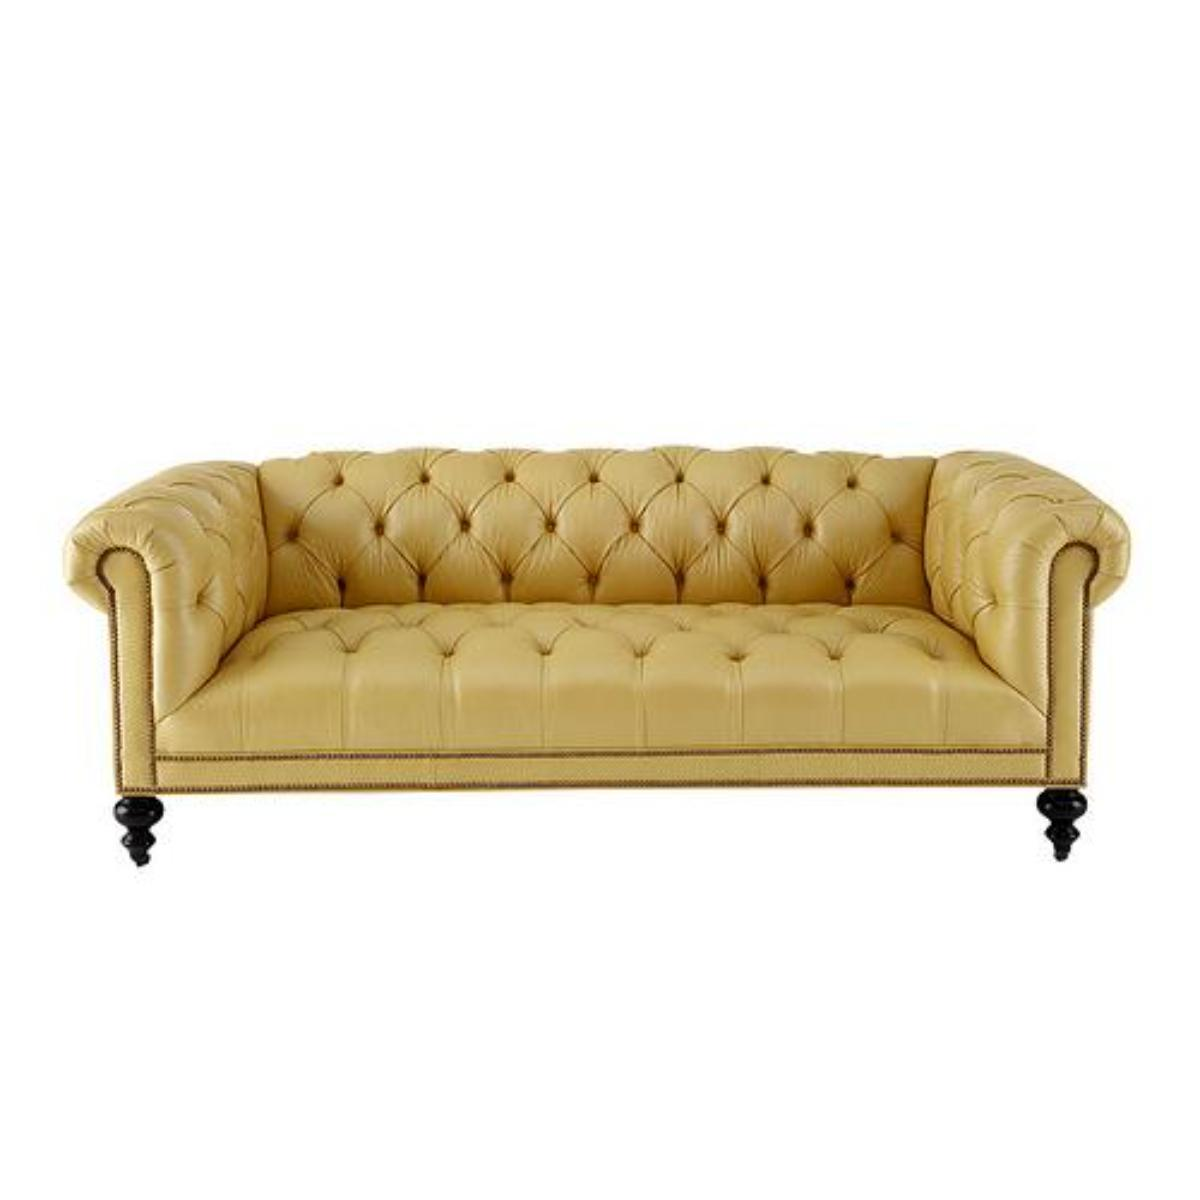Sofa: (64, 443, 1130, 859)
